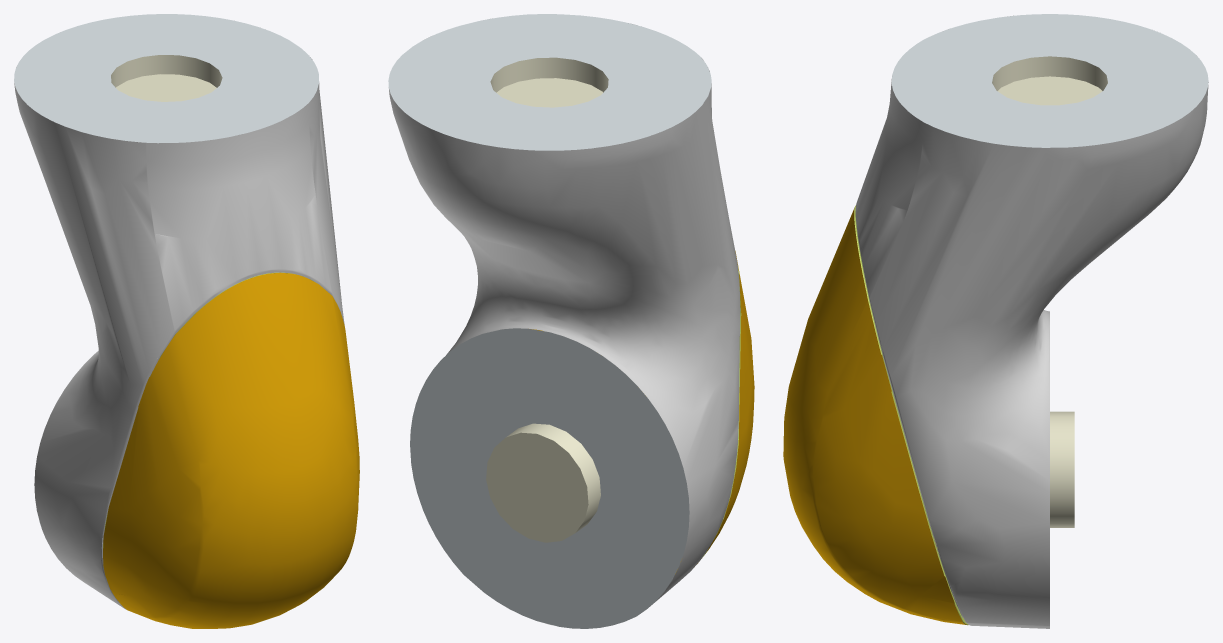
File: IIWA7_Link4.dae
The picture shows the model from 3 angles, left to right: view 1: azimuth 30°, elevation 25°; view 2: azimuth 150°, elevation 25°; view 3: azimuth 270°, elevation 25°; orthographic projection. The views are drawn at different scales.
Parts seen in each view (by area): view 1: MeshFeature1_1_010; view 2: MeshFeature1_1_010; view 3: MeshFeature1_1_010.
Boxes of the visible parts, x1,y1,x2,y2 form: MeshFeature1_1_010: [14, 14, 359, 628]; MeshFeature1_1_010: [388, 14, 754, 628]; MeshFeature1_1_010: [783, 14, 1208, 628].
Size of the model in its own units: 0.136 by 0.1824 by 0.252.
